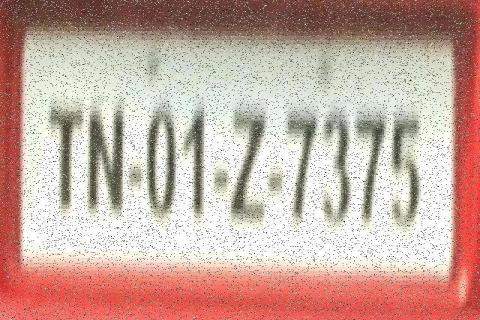LicensePlate: (14, 10, 466, 304)
